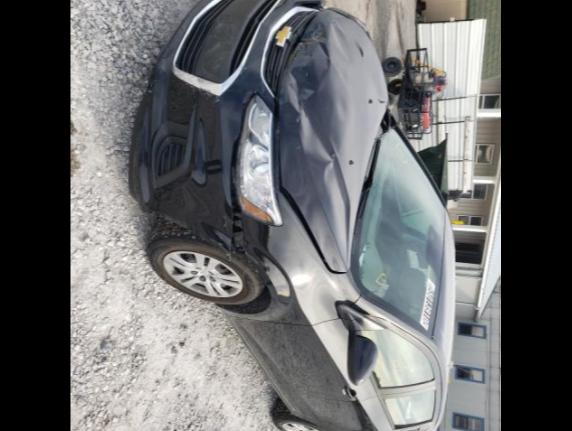Broken part: (272, 8, 392, 274), (224, 134, 248, 260), (292, 0, 332, 10)
Dent: (282, 108, 322, 212), (291, 66, 332, 150), (244, 216, 268, 256), (332, 26, 352, 57), (310, 42, 328, 72), (308, 22, 326, 40)
Scratch: (292, 42, 312, 66), (310, 26, 324, 38), (300, 88, 312, 98), (304, 72, 308, 76), (296, 118, 300, 122)
